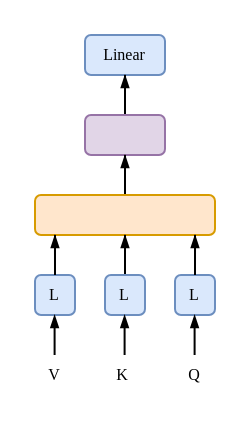
Image size: 250x430. Some labels were removed from this diagram. The shapes that lost their labels are listed below. From the top down, each one's centre as x and y in pixels, then its label:
(124,134): Concat
(124,214): Scaled Dot-Product Attention
